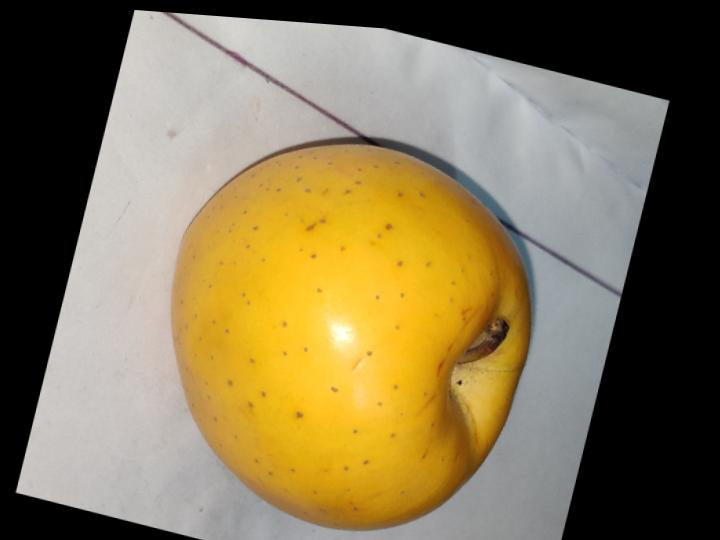apple: (171, 141, 528, 530)
